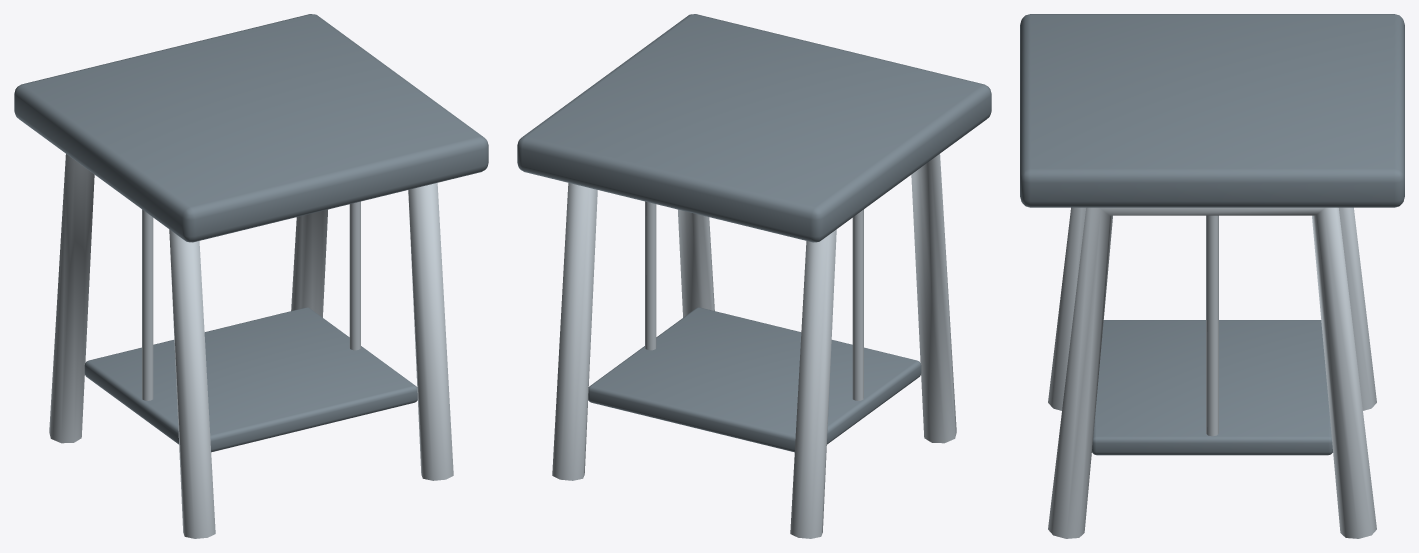
The model's file is side-table.glb.
3 renders of one model, left to right at view 1: azimuth 30°, elevation 25°; view 2: azimuth 150°, elevation 25°; view 3: azimuth 270°, elevation 25°, orthographic. The views are drawn at different scales.
Visible parts, largest first — view 1: side-table; view 2: side-table; view 3: side-table.
Part boxes in pixels (x1,y1,x2,y2): side-table: (14, 14, 488, 538); side-table: (517, 14, 991, 538); side-table: (1020, 14, 1404, 538).
Size of the model in its own units: 0.48 by 0.52 by 0.48.
